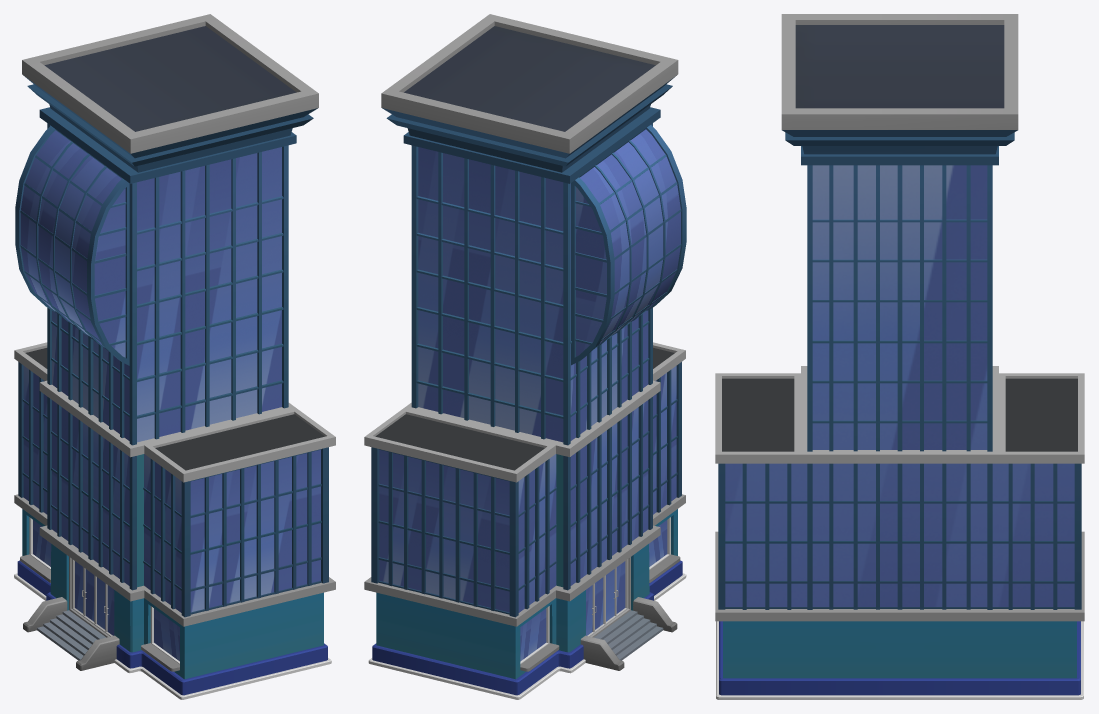
The model's file is Building_15_E.fbx.
The picture shows the model from 3 angles, left to right: view 1: azimuth 30°, elevation 25°; view 2: azimuth 150°, elevation 25°; view 3: azimuth 270°, elevation 25°; orthographic projection. The views are drawn at different scales.
Parts seen in each view (by area): view 1: Building_15_E; view 2: Building_15_E; view 3: Building_15_E.
Part boxes in pixels (box(x1,y1,x2,y2)): Building_15_E: box(14, 14, 335, 699); Building_15_E: box(364, 14, 686, 699); Building_15_E: box(715, 14, 1084, 699).
Bounding box in the file's own units: 860 × 2100 × 1183.
